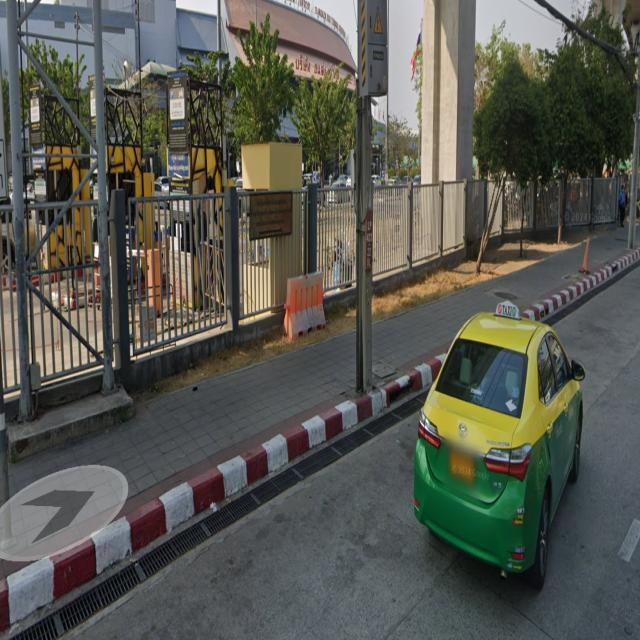fallen_object: (270, 262, 332, 346), (566, 219, 616, 309)
